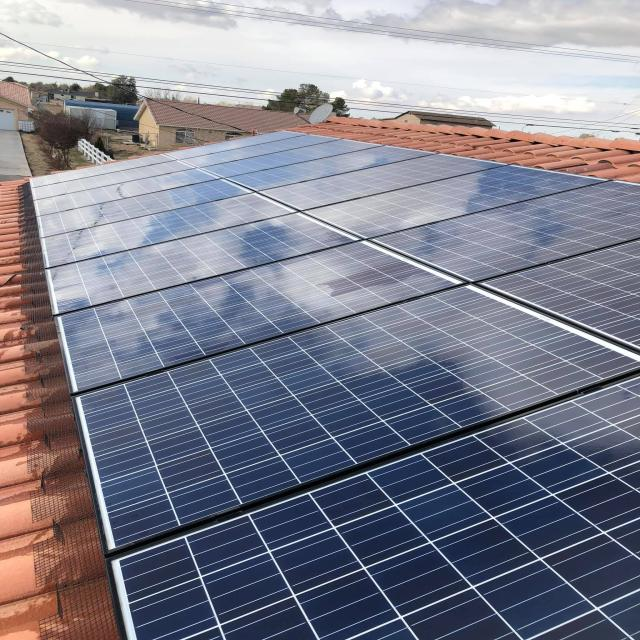clean-solar-panel: (115, 379, 638, 640)
